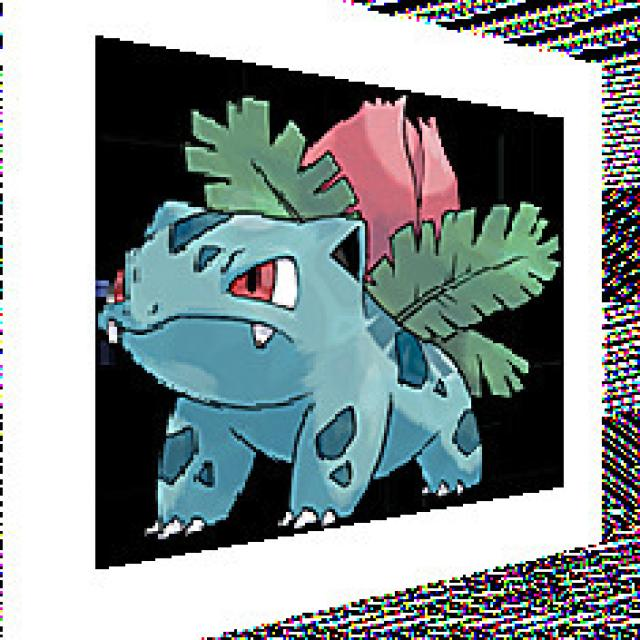Ivysaur: (98, 103, 468, 486)
